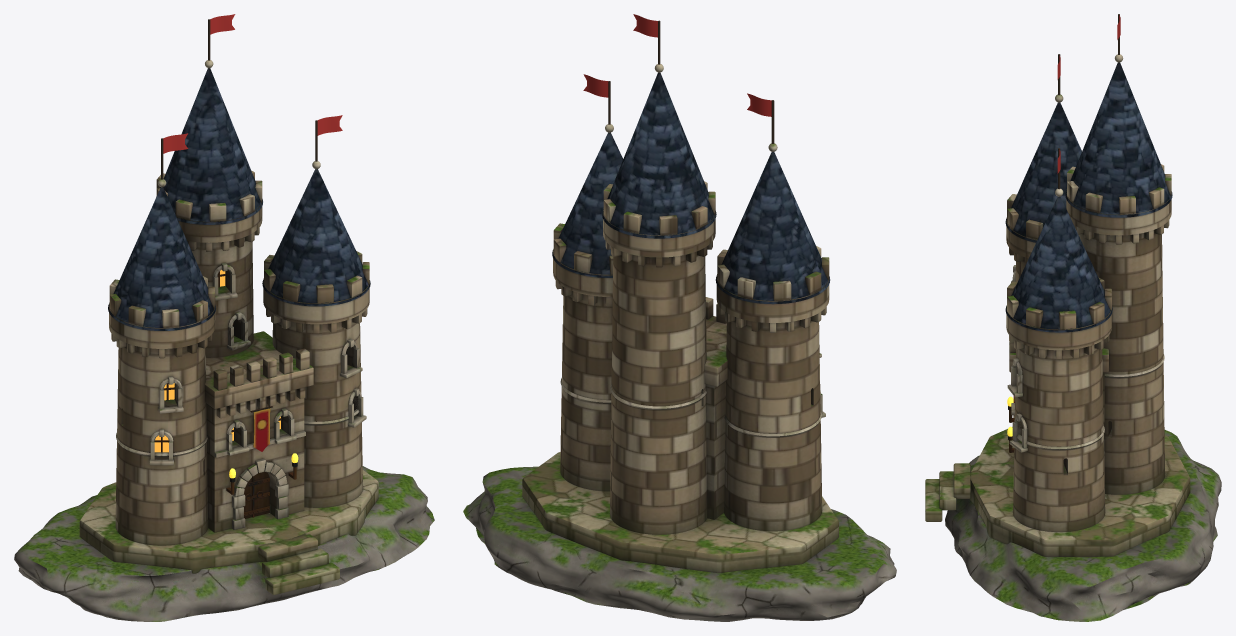
Rendered from castle.glb.
3 views of the same model, side by side, from view 1: azimuth 30°, elevation 25°; view 2: azimuth 150°, elevation 25°; view 3: azimuth 270°, elevation 25° (orthographic). The views are drawn at different scales.
Visible parts, largest first — view 1: Castle, Mound, GlowWindows; view 2: Castle, Mound; view 3: Castle, Mound.
Boxes of the visible parts, x1,y1,x2,y2 form: Castle: [79, 60, 378, 594]; Mound: [14, 466, 434, 621]; GlowWindows: [154, 270, 298, 478]; Castle: [522, 64, 838, 572]; Mound: [463, 466, 896, 621]; Castle: [925, 54, 1190, 556]; Mound: [945, 430, 1221, 621].
Size of the model in its own units: 3.16 by 4.02 by 2.08.
8 materials, 2 textured.
